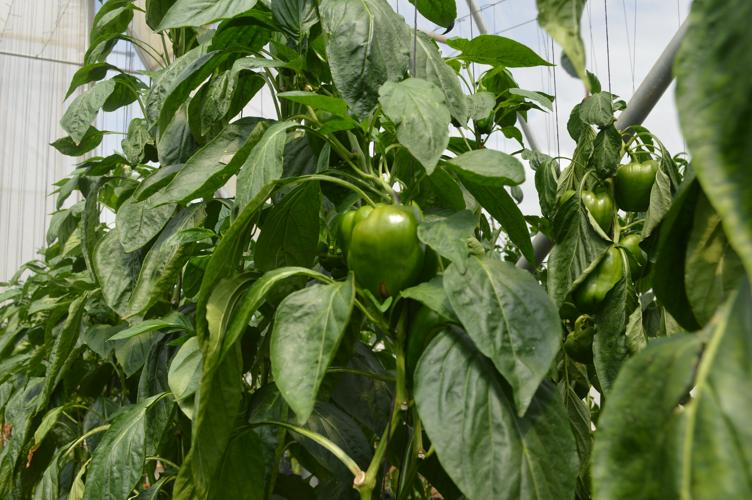BellPepper: (338, 204, 424, 300), (583, 234, 650, 279), (553, 188, 613, 236), (616, 162, 658, 216)
